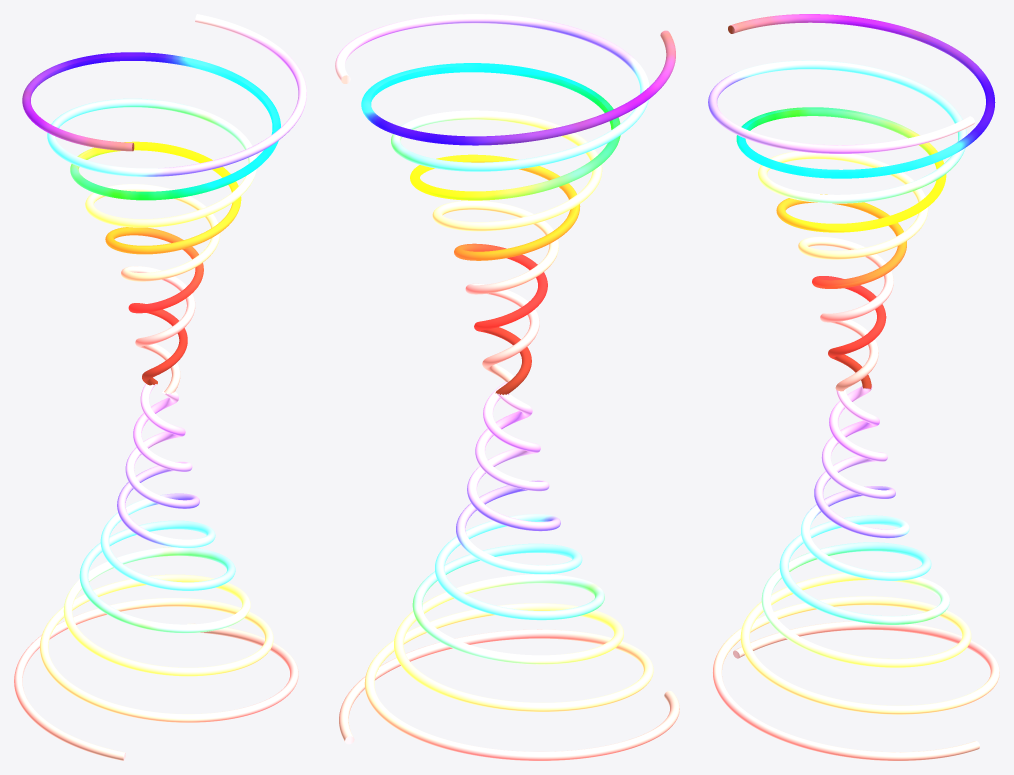
File: spiral_rings.glb
The picture shows the model from 3 angles, left to right: view 1: azimuth 30°, elevation 25°; view 2: azimuth 150°, elevation 25°; view 3: azimuth 270°, elevation 25°; orthographic projection. The views are drawn at different scales.
Parts seen in each view (by area): view 1: Objet_9, Objet_7, Objet_5, Objet_8; view 2: Objet_7, Objet_8, Objet_5, Objet_9; view 3: Objet_8, Objet_7, Objet_5, Objet_9.
Part boxes in pixels (bbox=[...]): Objet_9: bbox=[14, 384, 273, 760]; Objet_7: bbox=[47, 14, 306, 393]; Objet_5: bbox=[22, 52, 280, 385]; Objet_8: bbox=[40, 390, 298, 722]; Objet_7: bbox=[335, 14, 649, 382]; Objet_8: bbox=[339, 382, 653, 744]; Objet_5: bbox=[361, 30, 675, 394]; Objet_9: bbox=[364, 393, 679, 760]; Objet_8: bbox=[712, 389, 979, 760]; Objet_7: bbox=[708, 60, 974, 391]; Objet_5: bbox=[728, 14, 995, 388]; Objet_9: bbox=[733, 385, 999, 714].
Size of the model in its own units: 3.02 by 6.7 by 2.78.
Materials: 4 (1 with a texture image).
